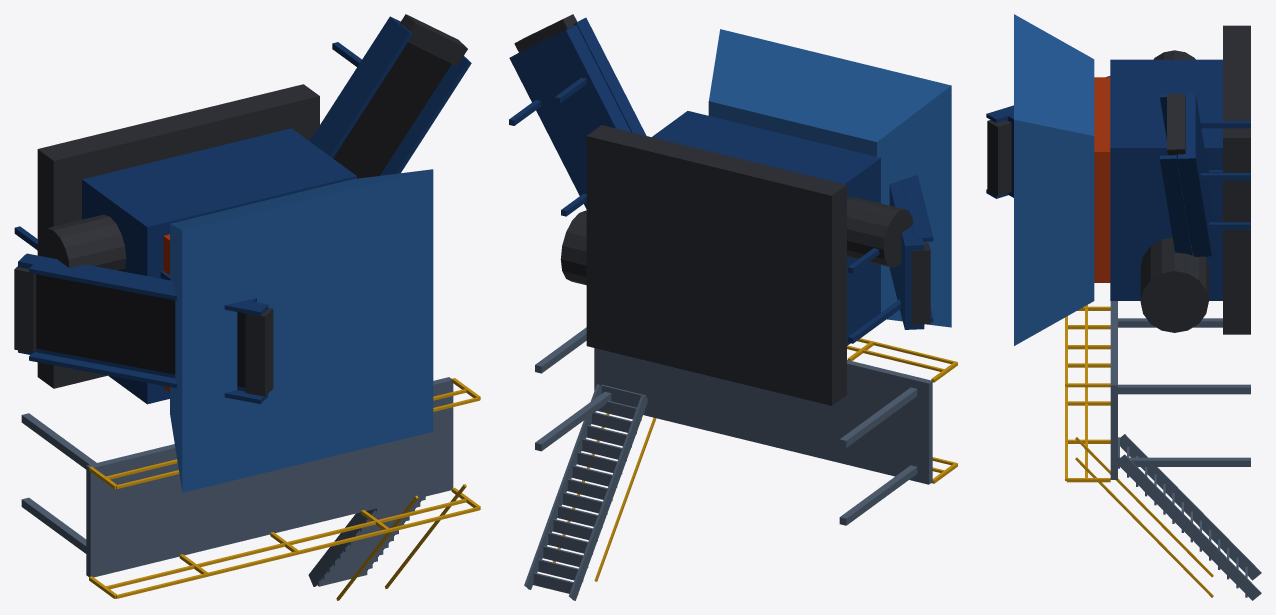
Rendered from primary_shredder.obj.
3 views of the same model, side by side, from view 1: azimuth 30°, elevation 25°; view 2: azimuth 150°, elevation 25°; view 3: azimuth 270°, elevation 25° (orthographic). The views are drawn at different scales.
Visible parts, largest first — view 1: shredder_hopper.006, shredder_platform_deck.006, shredder_body.006, shredder_base.006, feed_conveyor_belt.006, discharge_conveyor_belt.006, shredder_gearbox.006, feed_conveyor_side.012, discharge_conveyor_side.012, feed_conveyor_drum.013, discharge_conveyor_side.013, discharge_conveyor_frame.006 (+9 smaller); view 2: shredder_base.006, shredder_hopper.006, shredder_platform_deck.006, shredder_body.006, discharge_conveyor_frame.006, shredder_gearbox.006, feed_conveyor_frame.006, shredder_stairs_stringer.012, discharge_conveyor_side.012, feed_conveyor_drum.012, shredder_motor.006, shredder_stairs_stringer.013 (+7 smaller); view 3: shredder_hopper.006, shredder_body.006, shredder_base.006, shredder_motor.006, discharge_conveyor_frame.006, shredder_housing.006, shredder_stairs_stringer.013, shredder_stairs_stringer.012, feed_conveyor_drum.013, discharge_conveyor_side.013, shredder_platform_leg.027, shredder_platform_deck.006 (+7 smaller).
Boxes of the visible parts, <box> form: shredder_hopper.006: <box>170,169,433,492</box>; shredder_platform_deck.006: <box>86,377,453,577</box>; shredder_body.006: <box>82,128,356,404</box>; shredder_base.006: <box>37,84,319,388</box>; feed_conveyor_belt.006: <box>36,274,245,387</box>; discharge_conveyor_belt.006: <box>333,42,451,178</box>; shredder_gearbox.006: <box>37,214,126,271</box>; feed_conveyor_side.012: <box>29,261,268,316</box>; discharge_conveyor_side.012: <box>320,24,412,157</box>; feed_conveyor_drum.013: <box>245,307,273,396</box>; discharge_conveyor_side.013: <box>380,56,471,175</box>; discharge_conveyor_frame.006: <box>309,16,451,175</box>; shredder_base.006: <box>586,125,846,405</box>; shredder_hopper.006: <box>708,29,951,327</box>; shredder_platform_deck.006: <box>594,348,932,484</box>; shredder_body.006: <box>652,111,880,345</box>; discharge_conveyor_frame.006: <box>509,25,630,208</box>; shredder_gearbox.006: <box>847,196,913,267</box>; feed_conveyor_frame.006: <box>889,180,924,329</box>; shredder_stairs_stringer.012: <box>569,395,647,600</box>; discharge_conveyor_side.012: <box>573,17,646,135</box>; feed_conveyor_drum.012: <box>911,242,930,324</box>; shredder_motor.006: <box>560,210,586,285</box>; shredder_stairs_stringer.013: <box>524,384,601,589</box>; shredder_hopper.006: <box>1014,14,1094,345</box>; shredder_body.006: <box>1110,59,1222,300</box>; shredder_base.006: <box>1223,25,1250,334</box>; shredder_motor.006: <box>1140,237,1208,332</box>; discharge_conveyor_frame.006: <box>1177,93,1211,256</box>; shredder_housing.006: <box>1094,77,1110,282</box>; shredder_stairs_stringer.013: <box>1118,454,1261,600</box>; shredder_stairs_stringer.012: <box>1120,434,1261,580</box>; feed_conveyor_drum.013: <box>987,120,1011,195</box>; discharge_conveyor_side.013: <box>1160,155,1192,255</box>; shredder_platform_leg.027: <box>1118,384,1250,394</box>; shredder_platform_deck.006: <box>1110,301,1117,479</box>.
Size of the model in its own units: 11.11 by 13.96 by 6.85.
